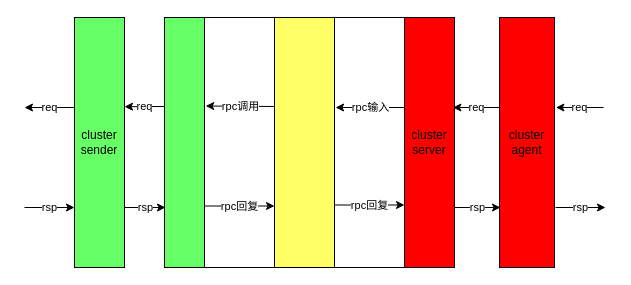
Image size: 631x285. Some labels were removed from this diagram. The shapes that lost their labels are listed below. From the top down, each one's centre as x and y in pixels, then its label:
point 184,142: cluster client
point 304,142: module_m servers
